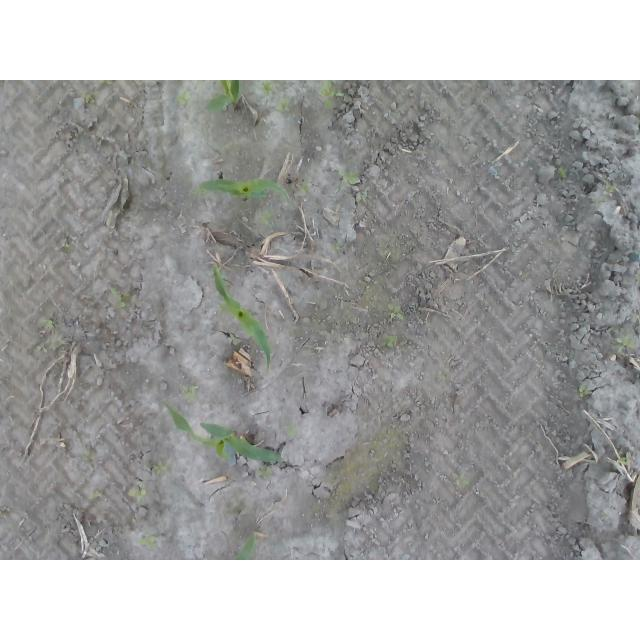Maize: (160, 399, 285, 464), (211, 265, 273, 369), (192, 177, 291, 204), (205, 80, 240, 114), (232, 532, 256, 561)
Weeds: (318, 80, 342, 96), (138, 534, 160, 551), (180, 384, 198, 401), (615, 337, 634, 352), (339, 171, 360, 184), (388, 304, 404, 320), (110, 289, 124, 307), (177, 90, 192, 106), (128, 486, 148, 498), (152, 461, 167, 475), (453, 473, 467, 487), (257, 466, 273, 478), (384, 335, 397, 348), (603, 185, 617, 197), (260, 80, 273, 92), (261, 211, 273, 223), (329, 244, 341, 256), (578, 386, 590, 398), (39, 319, 53, 329), (300, 182, 312, 193), (279, 100, 289, 111), (558, 166, 566, 178)
